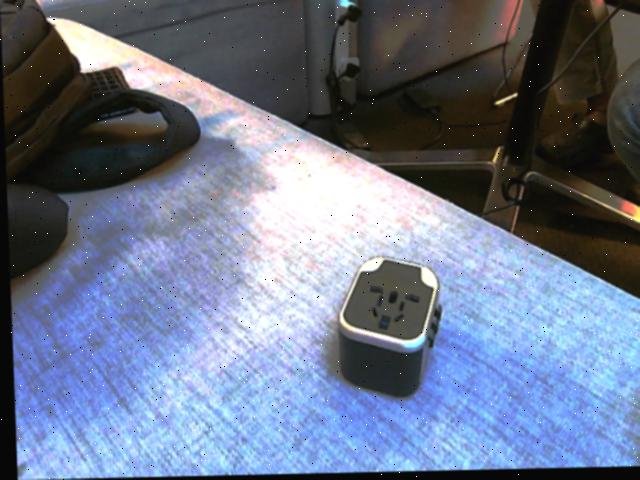adapter: (331, 256, 442, 400)
